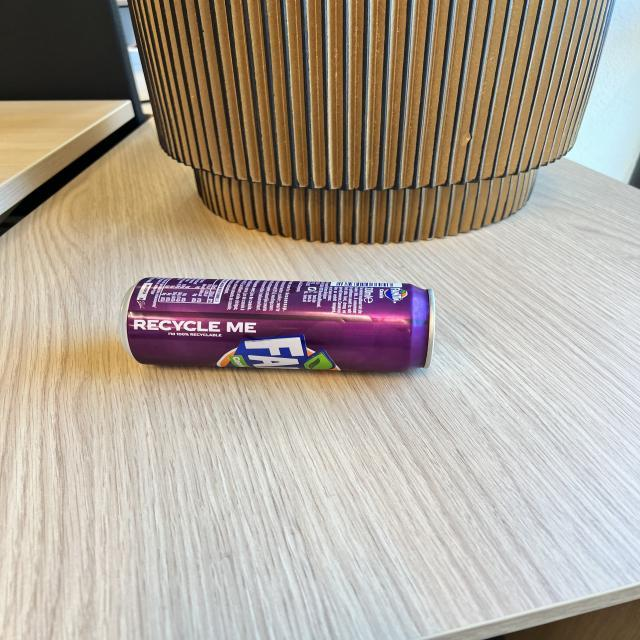kimloai: (122, 278, 435, 371)
